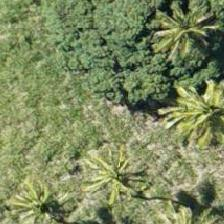coconut_tree: (68, 138, 158, 223), (155, 63, 223, 153), (148, 0, 223, 72), (126, 0, 216, 60), (0, 162, 58, 223)
